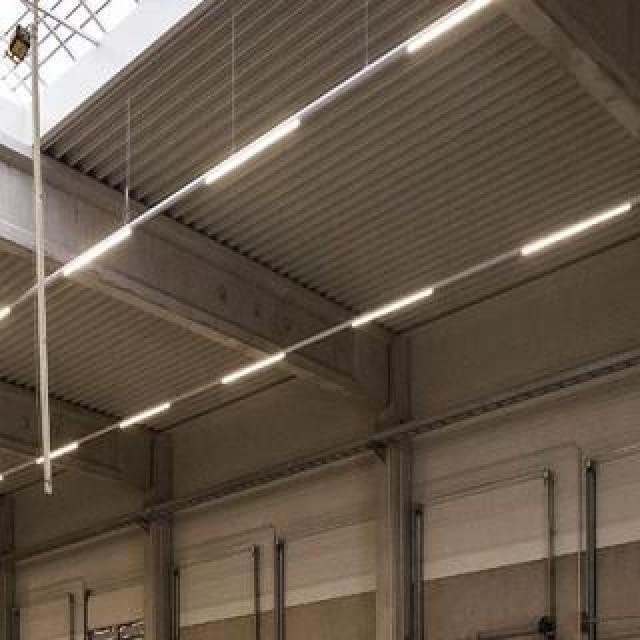fluorescent tube: (197, 113, 301, 202), (519, 193, 634, 267), (402, 0, 487, 66), (62, 218, 136, 285), (350, 281, 435, 339), (221, 342, 291, 393), (113, 398, 171, 434), (32, 435, 82, 470), (0, 298, 14, 350), (0, 472, 6, 498)
